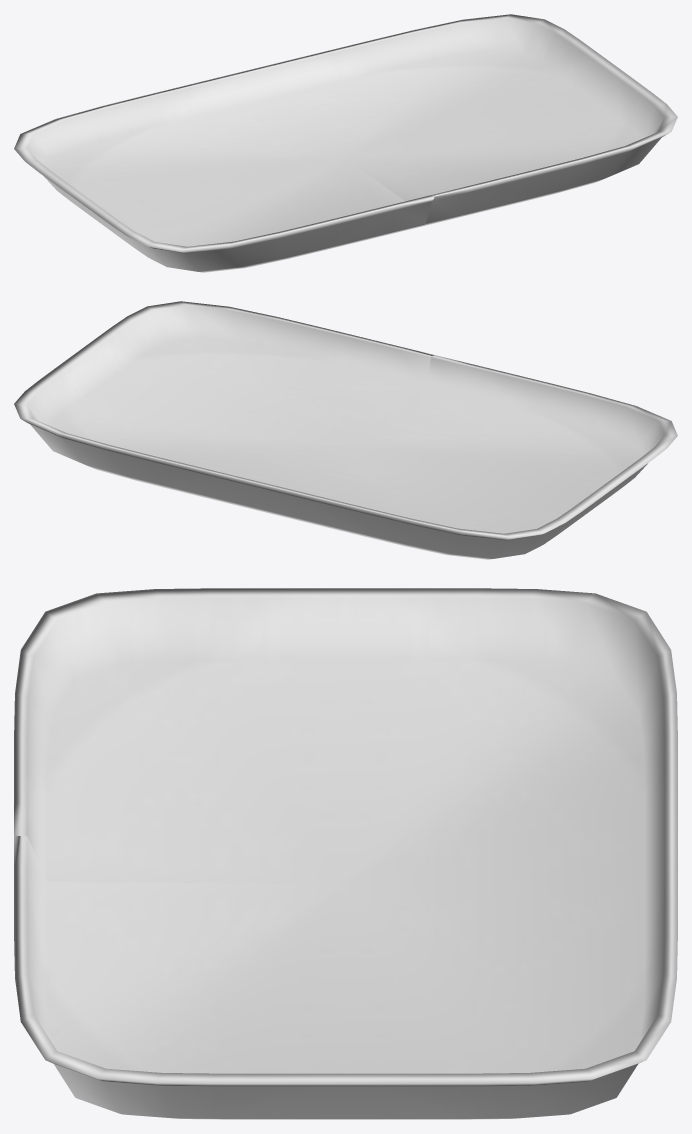
File: CER-11.glb
3 views of the same model, one above another, from view 1: azimuth 30°, elevation 25°; view 2: azimuth 150°, elevation 25°; view 3: azimuth 270°, elevation 25° (orthographic). The views are drawn at different scales.
Size of the model in its own units: 0.3 by 0.02 by 0.17.
1 material, 1 textured.
